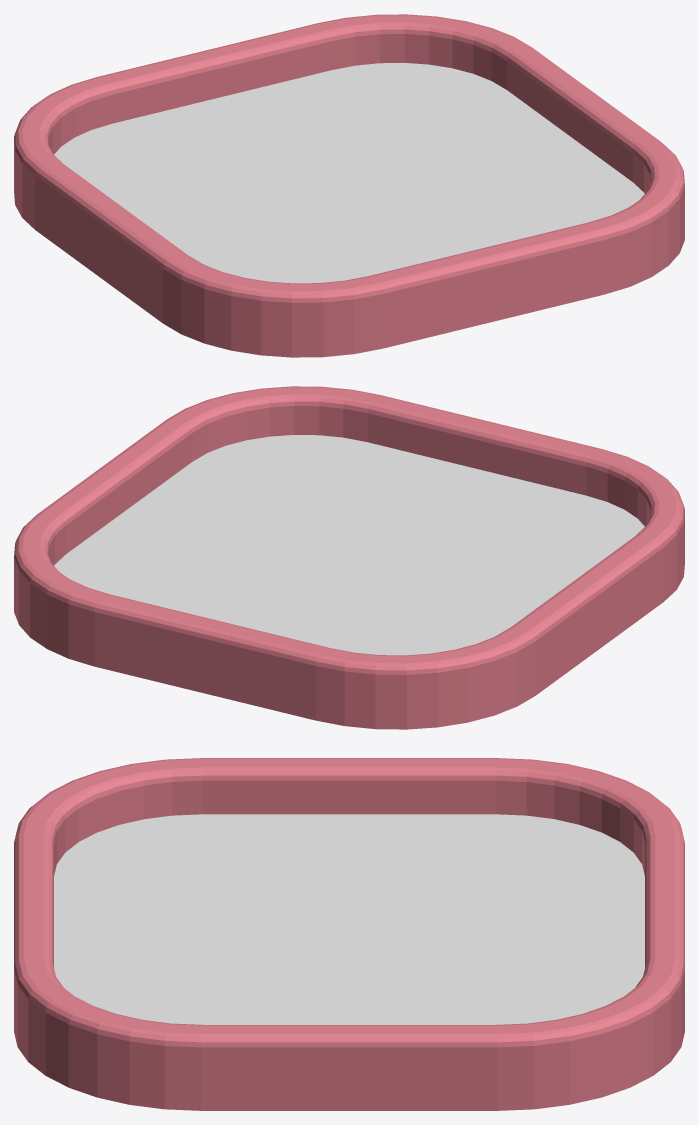
Rendered from tray_9.fbx.
3 renders of one model, top to bottom at view 1: azimuth 30°, elevation 25°; view 2: azimuth 150°, elevation 25°; view 3: azimuth 270°, elevation 25°, orthographic. The views are drawn at different scales.
Visible parts, largest first — view 1: tray_9; view 2: tray_9; view 3: tray_9.
Boxes of the visible parts, <box> form: tray_9: <box>14,14,684,357</box>; tray_9: <box>14,386,684,729</box>; tray_9: <box>14,758,684,1110</box>.
Size of the model in its own units: 0.1614 by 0.0193 by 0.1614.
